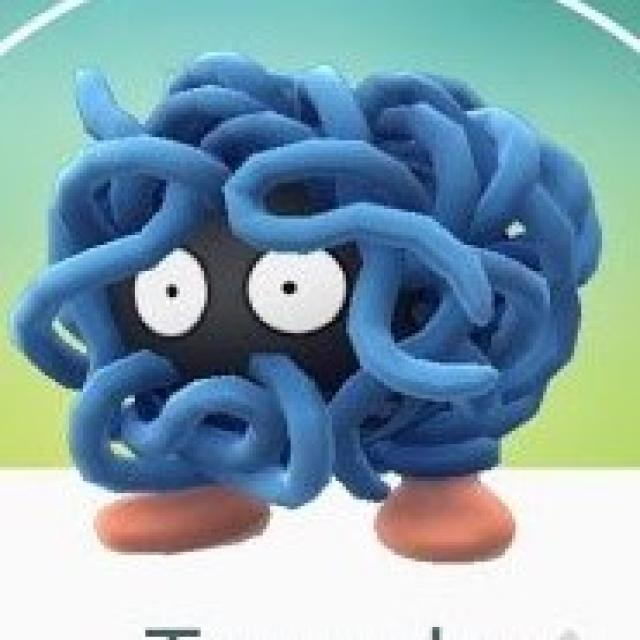Tangela: (29, 51, 596, 565)
